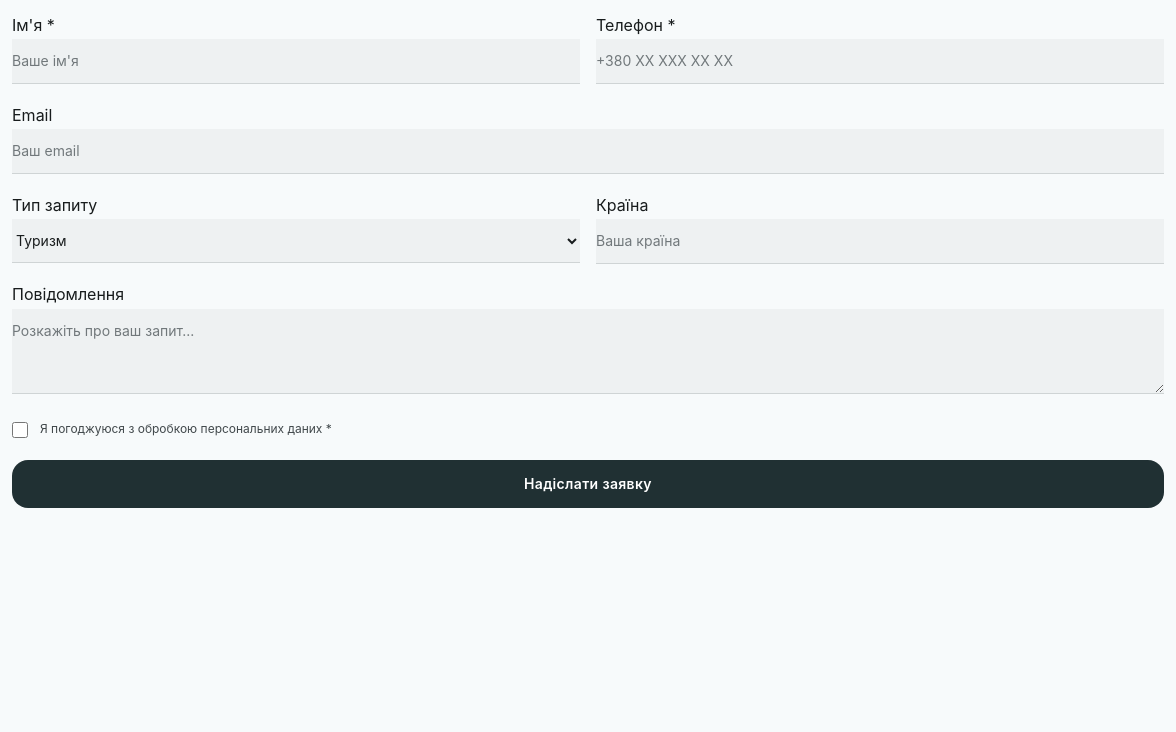
Test: LeadForm › shows API error message when submission fails
In the field with placeholder "Ваше ім'я": (296, 62) [12,39,580,84], type "Test"
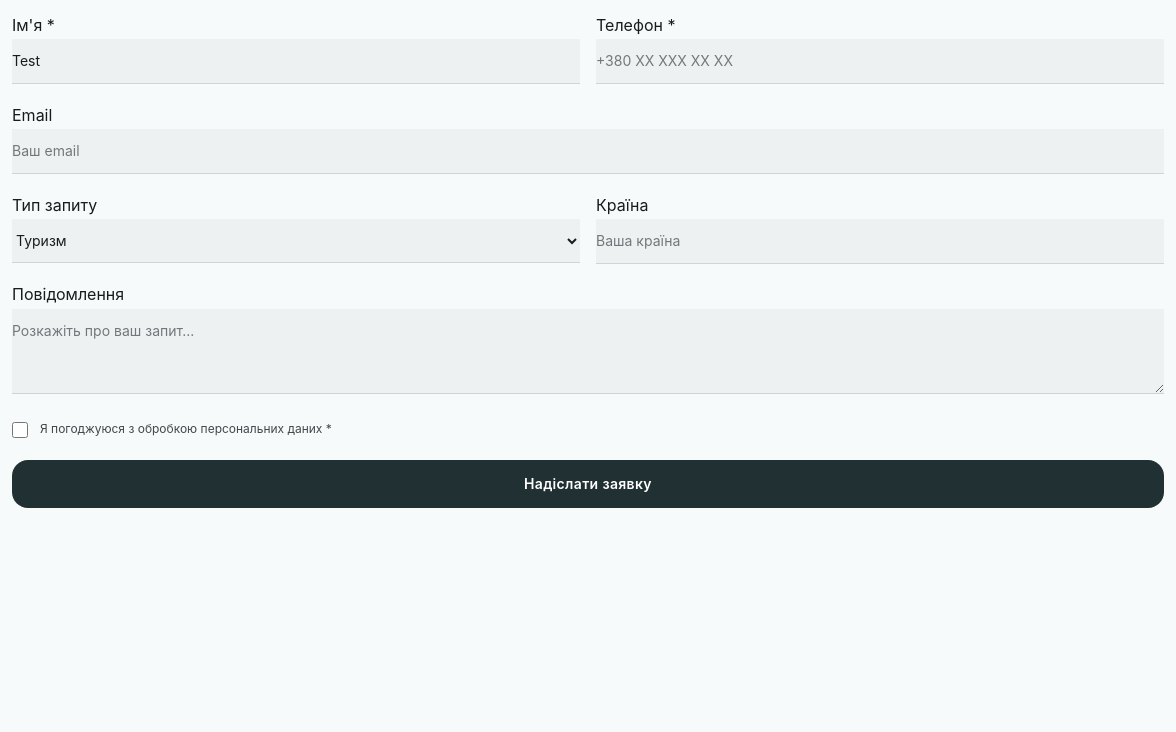
In the field with placeholder "+380 XX XXX XX XX": (880, 62) [596,39,1164,84], type "+380991234567"
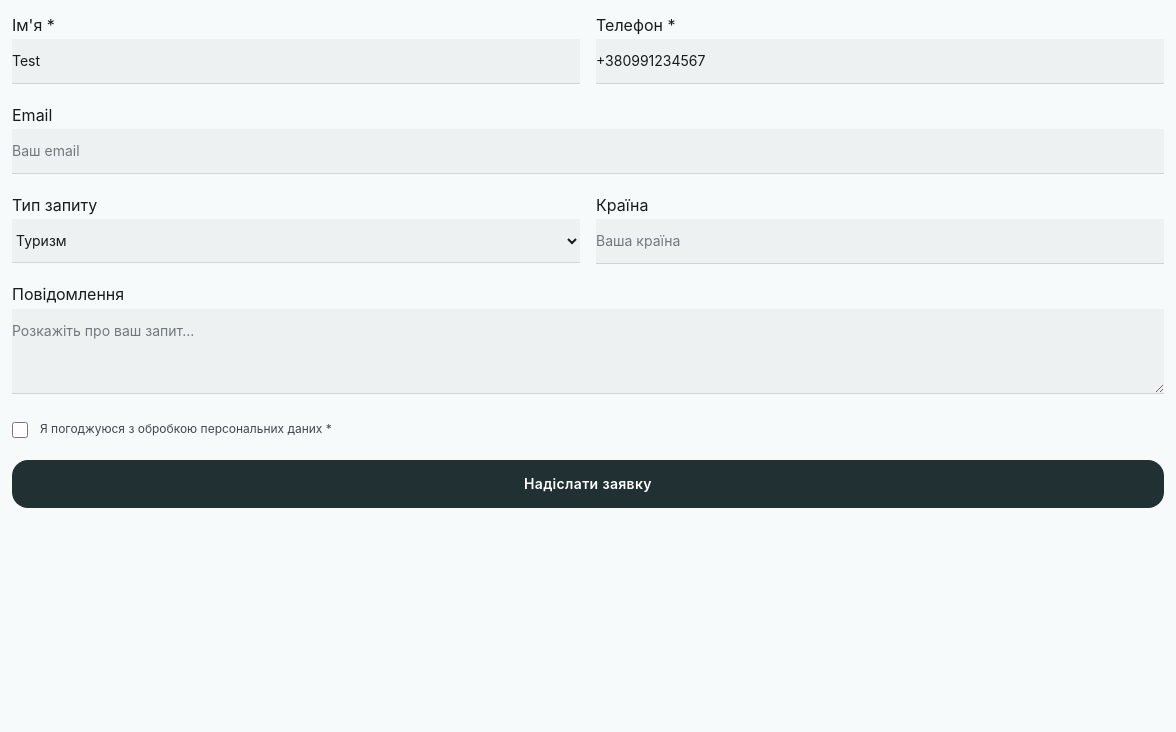
Click the checkbox labelled "Я погоджуюся з обробкою персональних даних *": (20, 430) [12,422,28,438]
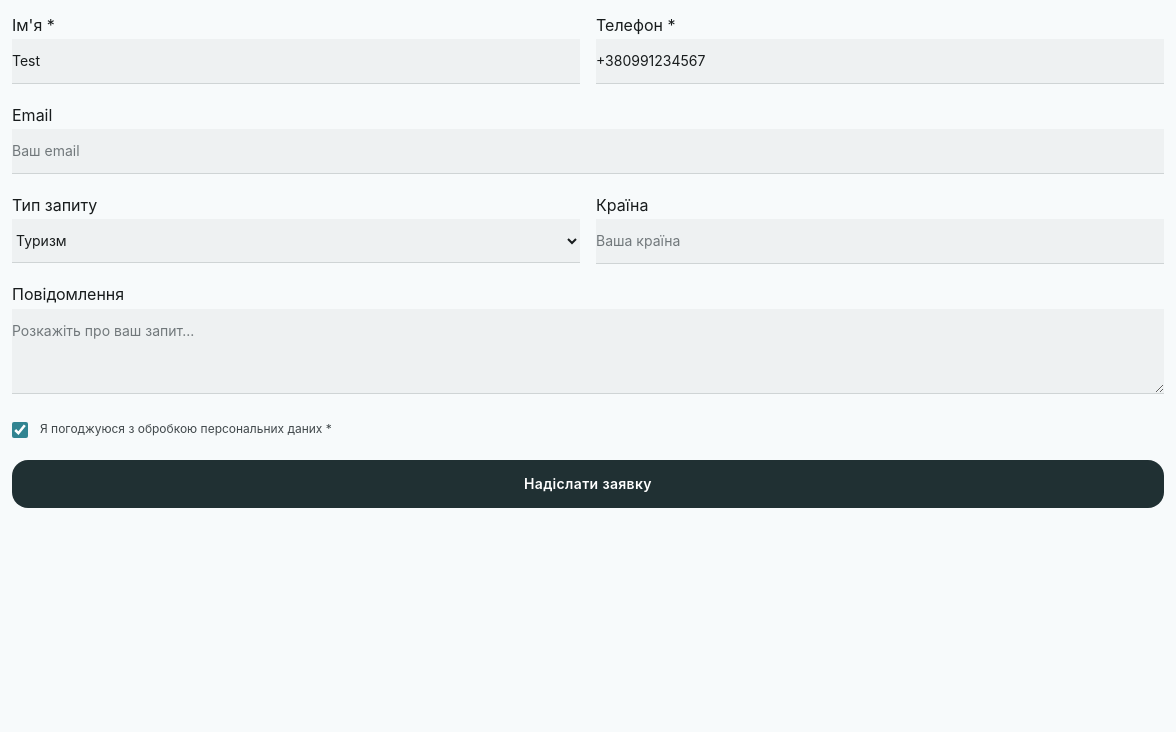
Click the button "Надіслати заявку": (588, 484) [12,460,1164,508]
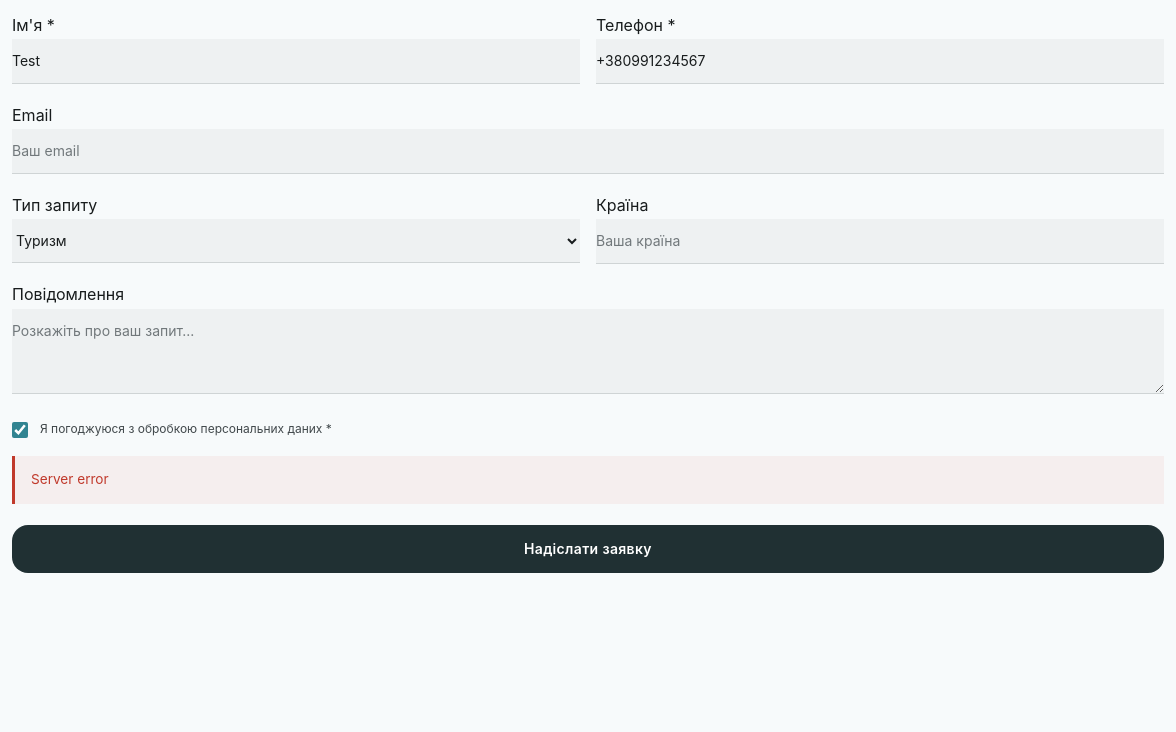
Now the text "Server error" is shown, box [12,456,1164,504]
